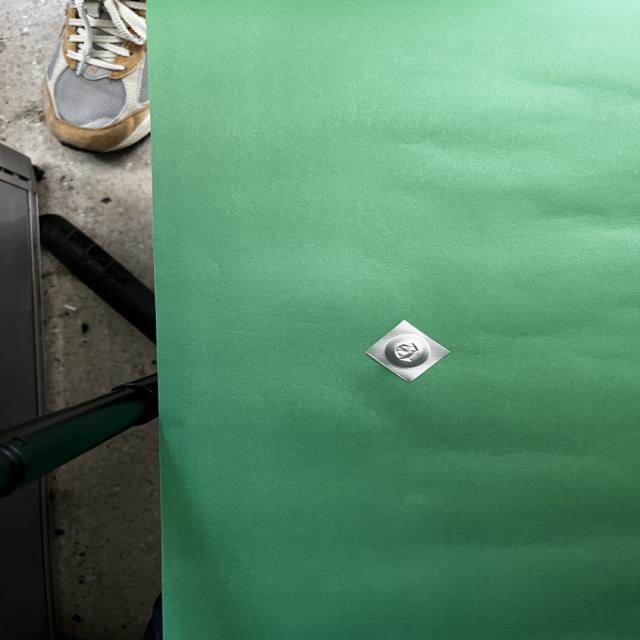Other Objects: (365, 320, 449, 382)
